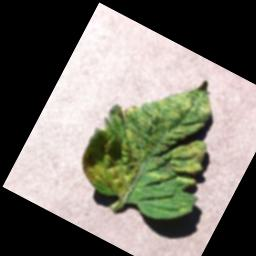Leaf_Mold: (75, 47, 238, 228)
